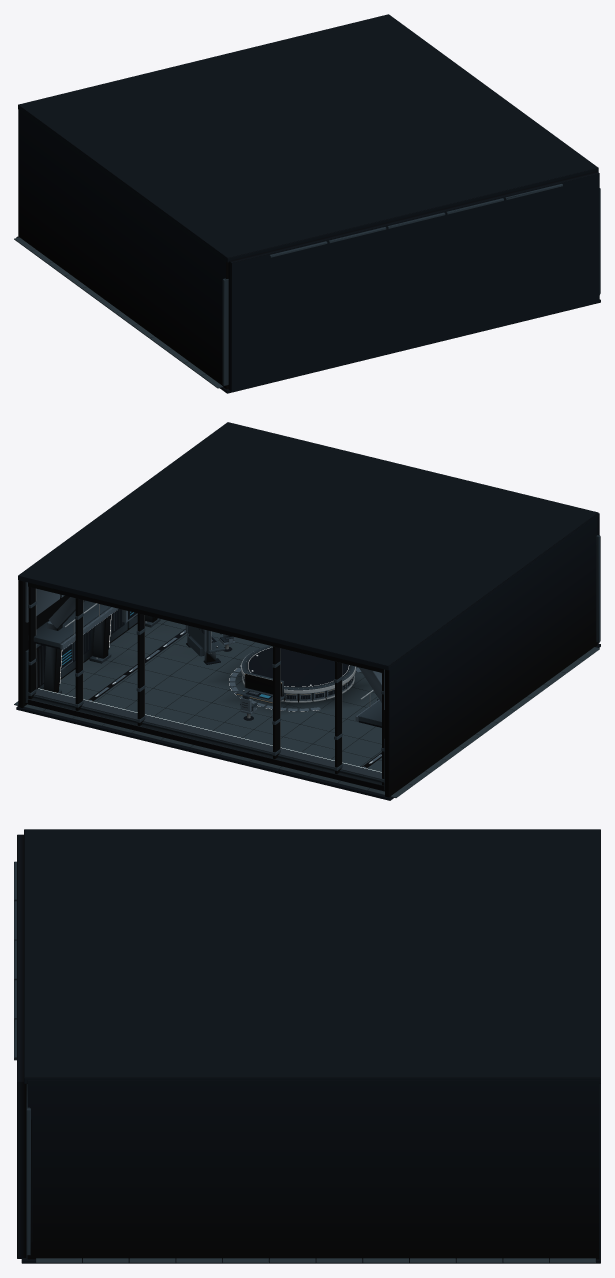
The model's file is command-bridge.glb.
3 renders of one model, top to bottom at view 1: azimuth 30°, elevation 25°; view 2: azimuth 150°, elevation 25°; view 3: azimuth 270°, elevation 25°, orthographic. The views are drawn at different scales.
Visible parts, largest first — view 1: Architecture / STAM / recess, Architecture / STAM / ceramic graphite, Architecture / STAM / honed deck; view 2: Architecture / STAM / recess, Architecture / STAM / honed deck, Architecture / STAM / ceramic graphite, Architecture / STAM / satin titanium, Navigation pedestal / STAM / recess, Architecture / STAM / machined edges, Operations console / STAM / ceramic graphite, Map console / STAM / recess, Navigation pedestal / STAM / ceramic graphite, Navigation pedestal / STAM / machined edges; view 3: Architecture / STAM / recess, Architecture / STAM / honed deck, Architecture / STAM / ceramic graphite.
Part boxes in pixels (x1=…): Architecture / STAM / recess: x1=16, y1=14, x2=600, y2=393; Architecture / STAM / ceramic graphite: x1=222, y1=183, x2=600, y2=385; Architecture / STAM / honed deck: x1=14, y1=237, x2=599, y2=388; Architecture / STAM / recess: x1=16, y1=422, x2=600, y2=800; Architecture / STAM / honed deck: x1=14, y1=619, x2=599, y2=797; Architecture / STAM / ceramic graphite: x1=25, y1=535, x2=600, y2=791; Architecture / STAM / satin titanium: x1=25, y1=582, x2=384, y2=779; Navigation pedestal / STAM / recess: x1=244, y1=648, x2=352, y2=700; Architecture / STAM / machined edges: x1=35, y1=589, x2=381, y2=763; Operations console / STAM / ceramic graphite: x1=187, y1=625, x2=225, y2=656; Map console / STAM / recess: x1=242, y1=674, x2=281, y2=720; Navigation pedestal / STAM / ceramic graphite: x1=242, y1=645, x2=354, y2=701; Navigation pedestal / STAM / machined edges: x1=241, y1=651, x2=355, y2=702; Architecture / STAM / recess: x1=17, y1=829, x2=600, y2=1263; Architecture / STAM / honed deck: x1=36, y1=1258, x2=595, y2=1263; Architecture / STAM / ceramic graphite: x1=14, y1=861, x2=30, y2=1255.
Size of the model in its own units: 25.97 by 8.74 by 25.13.
